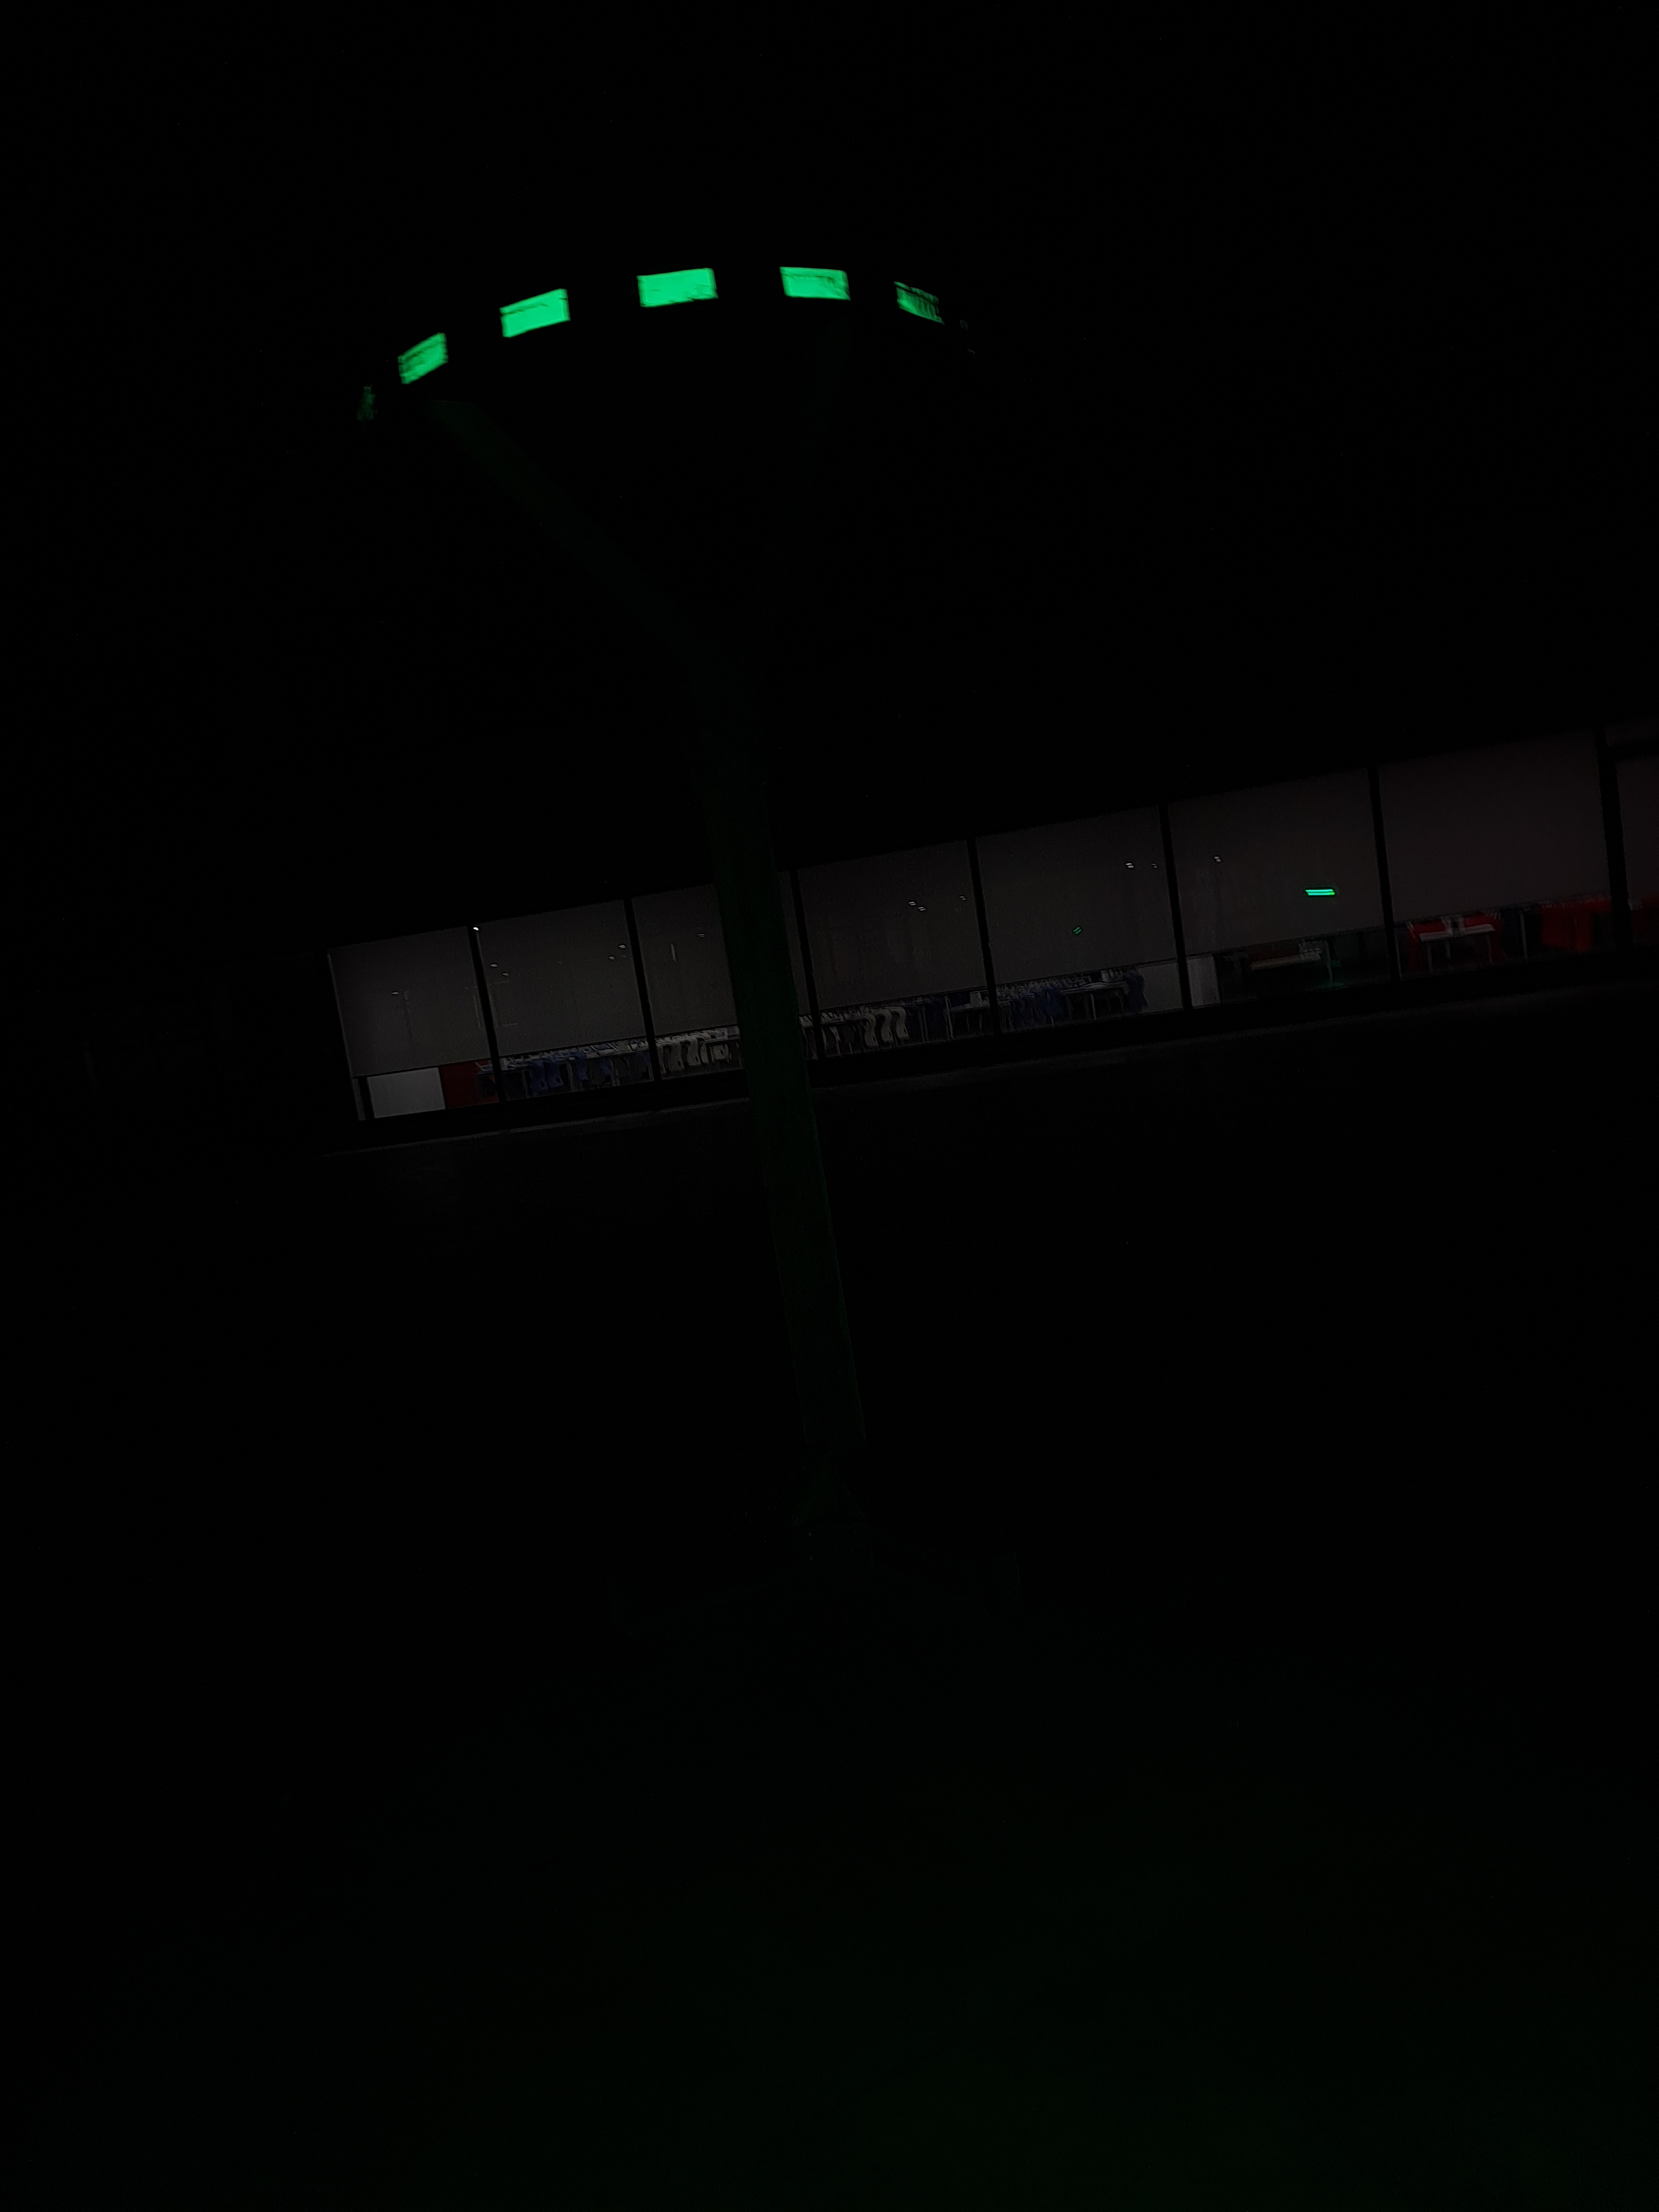hoop: (392, 263, 950, 392)
